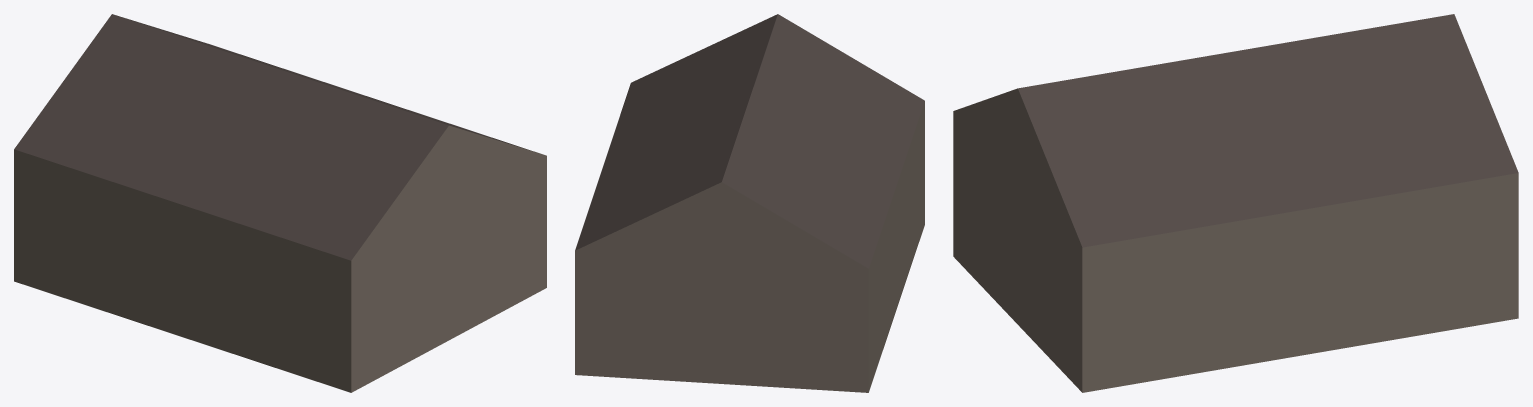
3 renders of one model, left to right at view 1: azimuth 30°, elevation 25°; view 2: azimuth 150°, elevation 25°; view 3: azimuth 270°, elevation 25°, orthographic. The views are drawn at different scales.
Parts seen in each view (by area): view 1: HP-w373833552; view 2: HP-w373833552; view 3: HP-w373833552.
Part boxes in pixels (left/top/right/bottom): HP-w373833552: left=14, top=14, right=546, bottom=392; HP-w373833552: left=575, top=14, right=924, bottom=392; HP-w373833552: left=953, top=14, right=1518, bottom=392.
Size of the model in its own units: 18.67 by 9.76 by 21.15.
